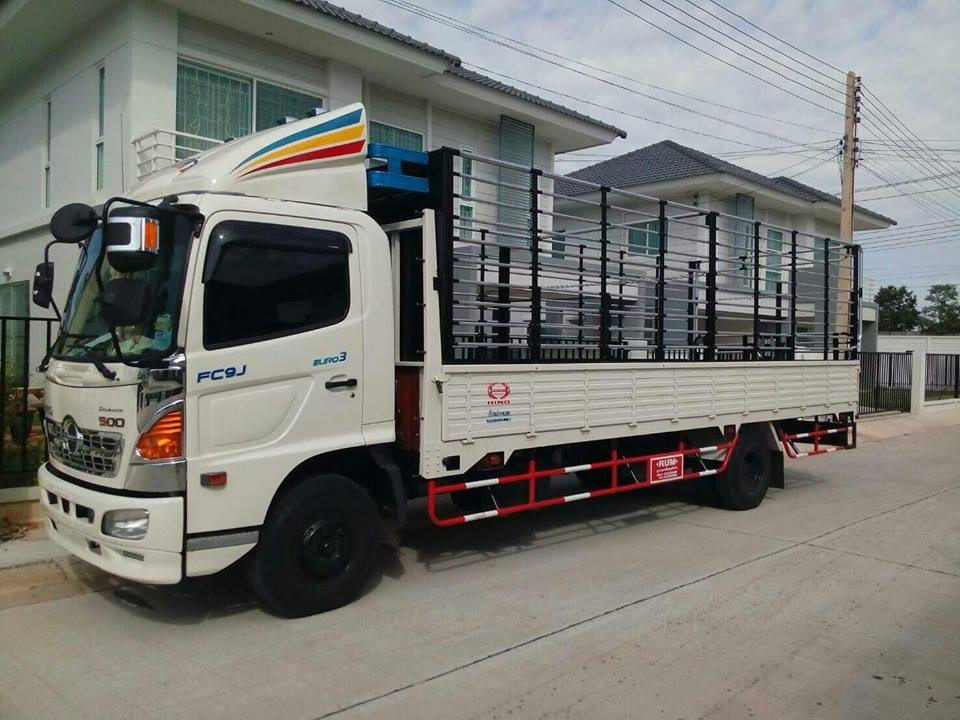truck: (38, 111, 402, 632)
